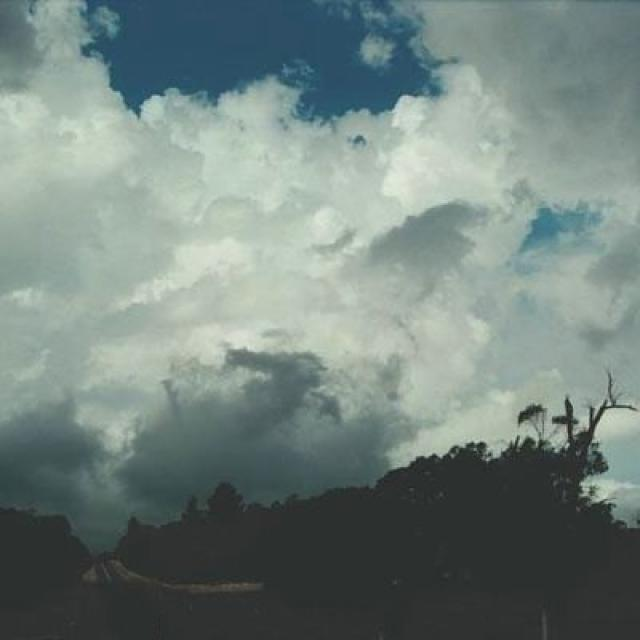St: (2, 25, 637, 382)
